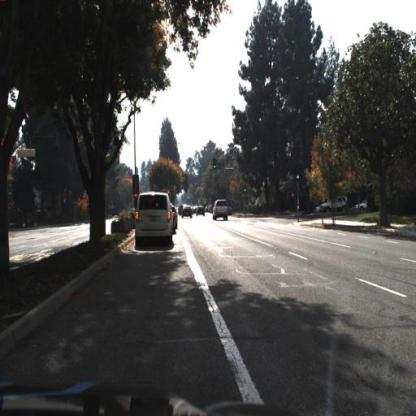car: (134, 191, 172, 251), (312, 192, 350, 218), (212, 197, 235, 228), (318, 198, 347, 215), (171, 201, 180, 237), (195, 203, 211, 219), (179, 204, 194, 221), (356, 200, 370, 213), (197, 205, 207, 220)
trafficLight-Green: (212, 154, 217, 172), (243, 179, 249, 194), (296, 167, 302, 180), (213, 158, 218, 173), (244, 188, 249, 202), (296, 171, 301, 185)
trafficLight-Red: (134, 192, 139, 208)
